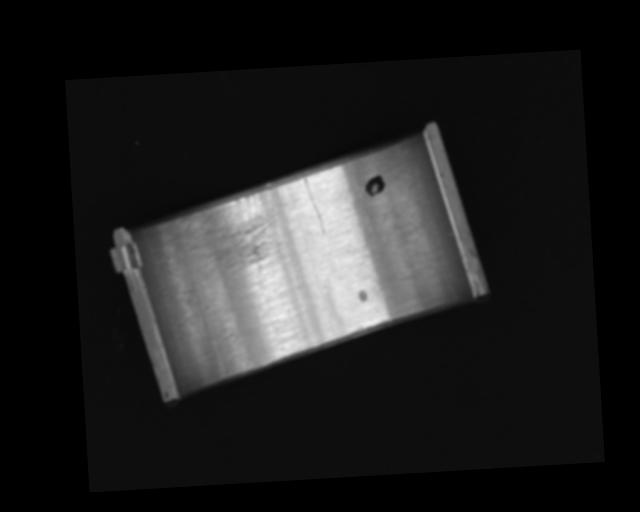blot: (362, 174, 386, 196)
bruise: (357, 288, 368, 303)
nick: (408, 219, 457, 305), (303, 177, 327, 236)
scratch: (174, 186, 283, 276)
